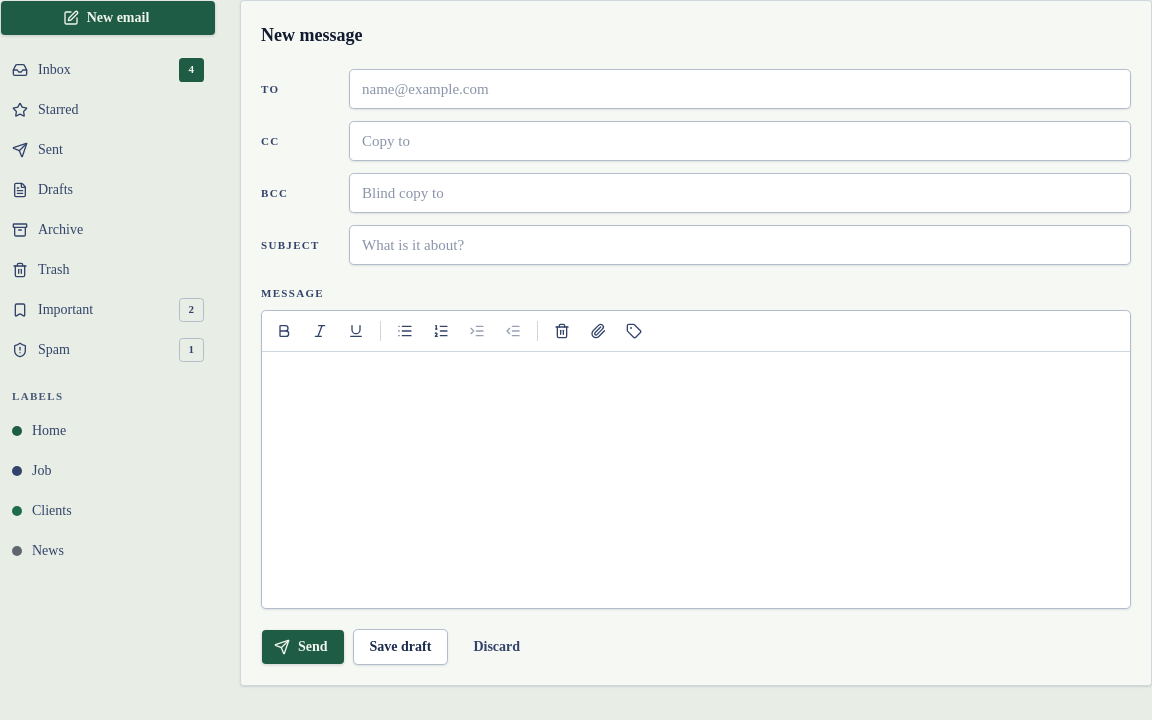
ComposeForm › rejects a malformed address in Cc
Type "ada@example.com" into the field labelled "To" at (740, 89), box [349,69,1131,109]
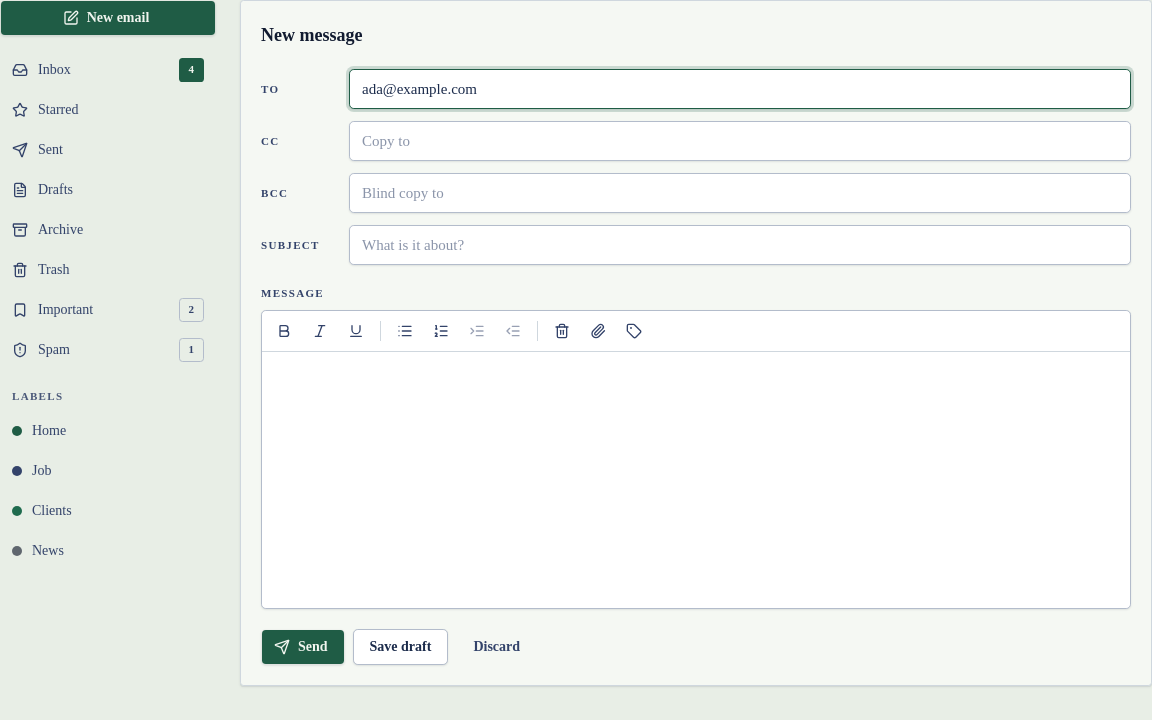
Type "not-an-address" into the field labelled "Cc" at (740, 141), box [349,121,1131,161]
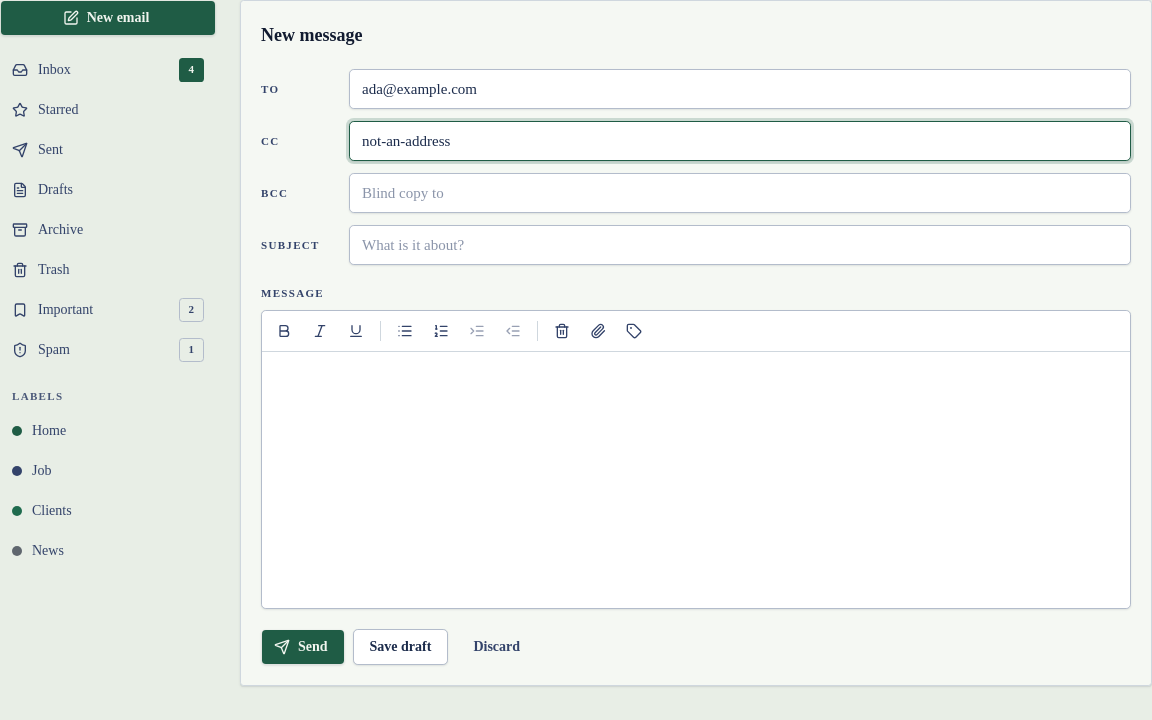
Click the button "Send" at (303, 646), box [261,628,345,664]
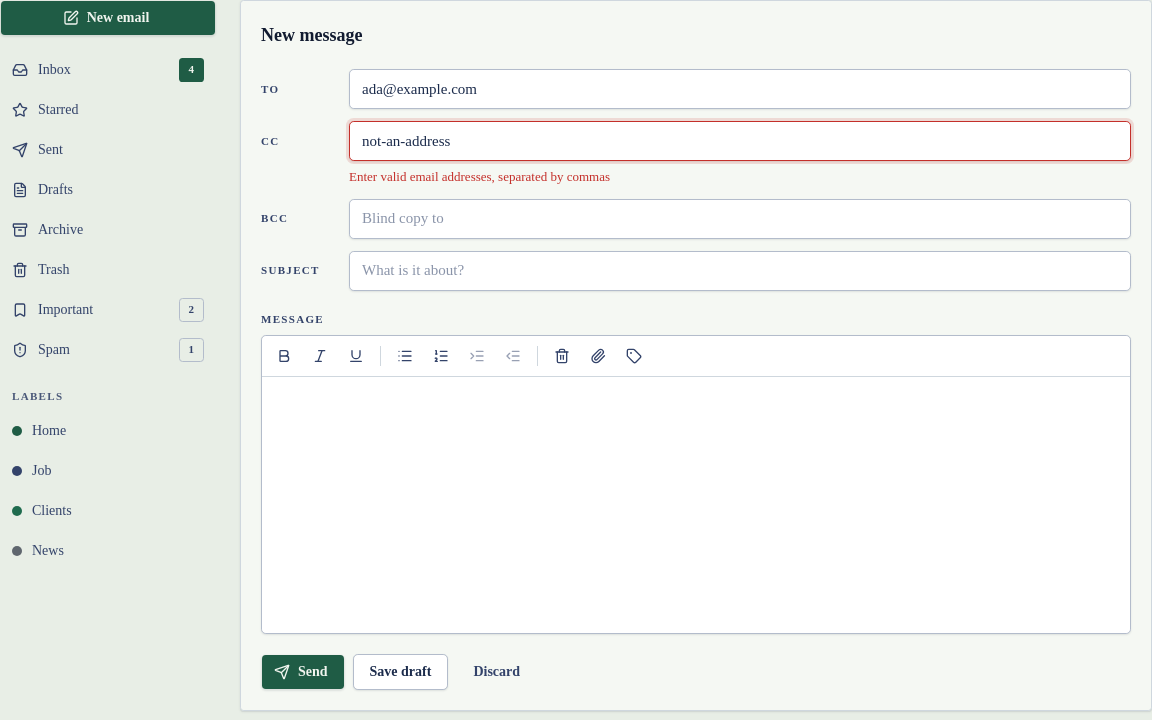
Expected: the text "Enter valid email addresses, separated by commas" is shown, [349,169,610,184]
